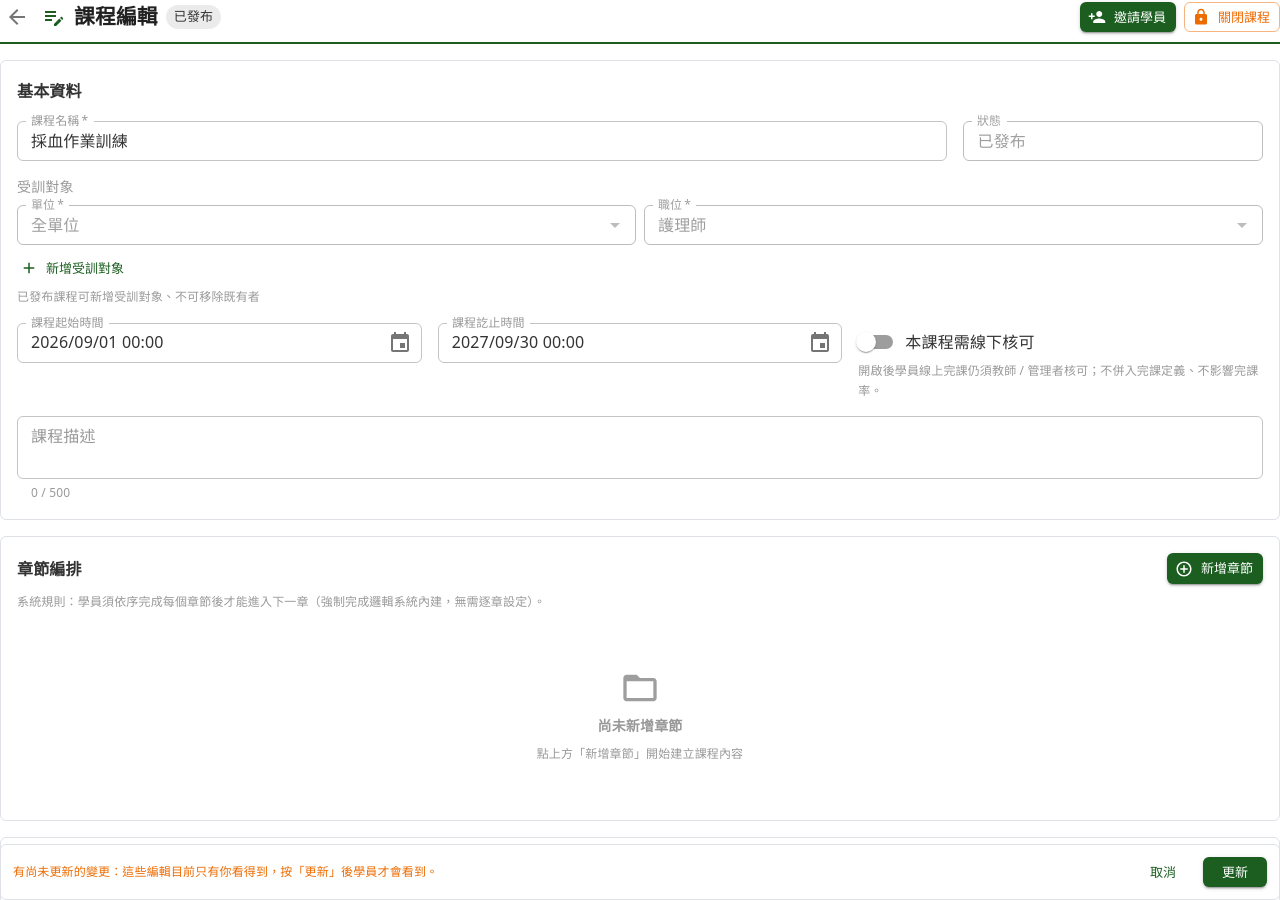
ET05 視窗訊息內容安全網（#814） › A1 更新課程內容——🔴 本檔之前零覆蓋 › 保留原句：更新後，自上次更新以來的所有編輯會同時對學員生效。
Click the button "更新".
click(1235, 872)  # box [1203, 856, 1267, 887]
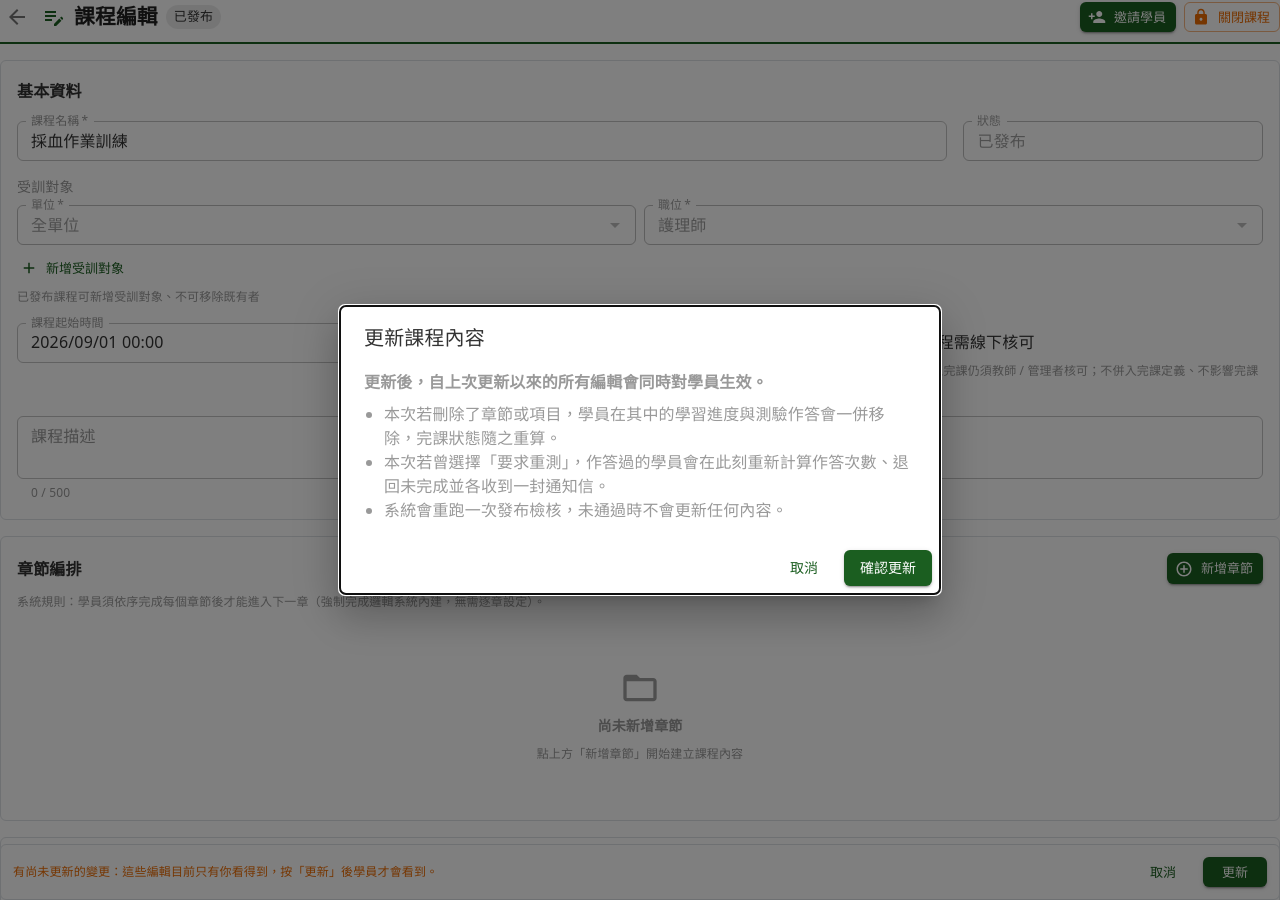
Now the dialog shows "更新後，自上次更新以來的所有編輯會同時對學員生效。", box [364, 371, 768, 393]
